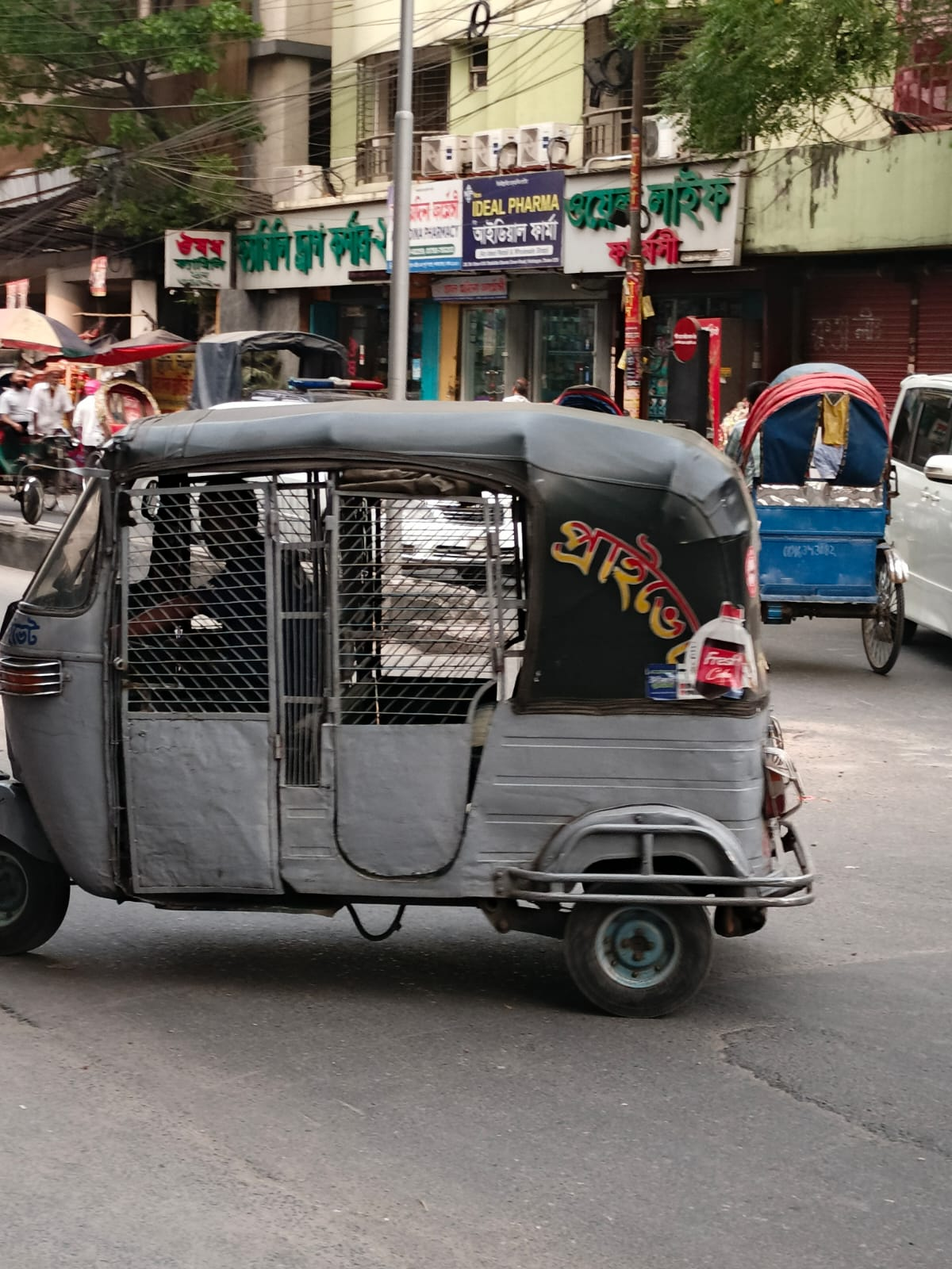cng: (0, 382, 812, 1033)
